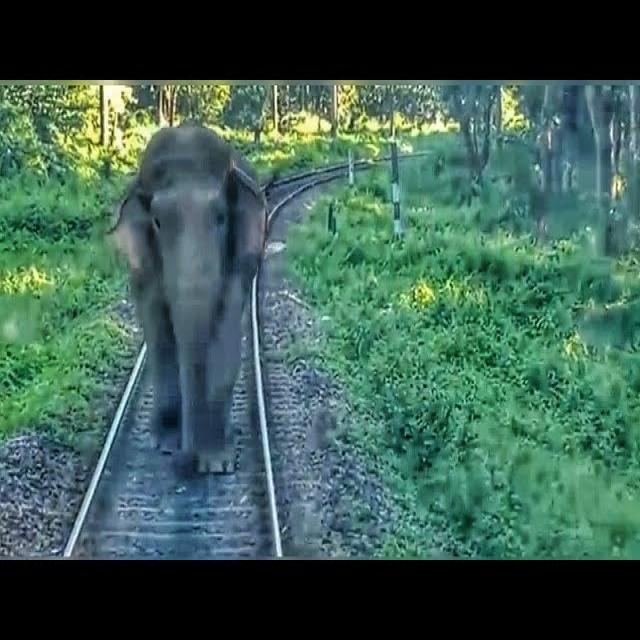Elephant: (108, 113, 288, 483)
